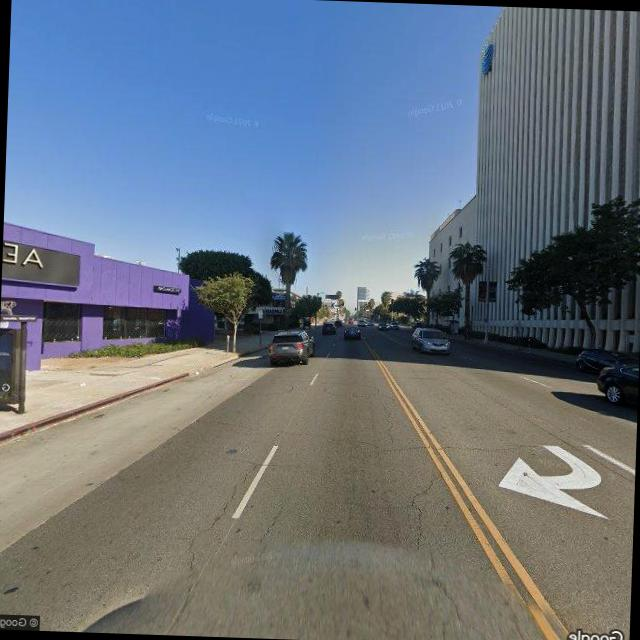crack: (155, 454, 263, 637), (386, 436, 527, 461), (407, 475, 439, 549), (369, 378, 400, 445), (260, 505, 284, 542)
